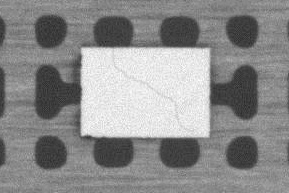DIE_CRACK: (111, 47, 195, 131)
